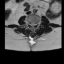CCS_normal: (31, 21, 33, 29)
LFS_normal: (35, 21, 37, 26)
LLS_normal: (33, 21, 35, 27)
RFS_normal: (28, 21, 30, 26)
RLS_normal: (30, 21, 31, 27)
